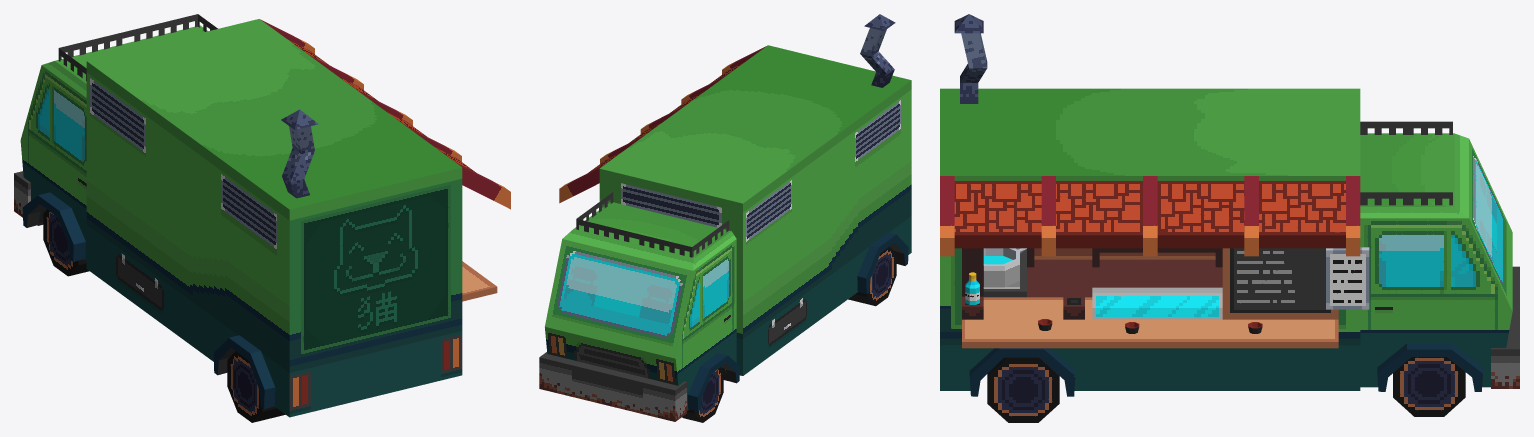
Rendered from green_foodtruck.glb.
The picture shows the model from 3 angles, left to right: view 1: azimuth 30°, elevation 25°; view 2: azimuth 150°, elevation 25°; view 3: azimuth 270°, elevation 25°; orthographic projection. The views are drawn at different scales.
Parts seen in each view (by area): view 1: cube_19, cube_15, cube_12, cube_8, cube_7, cube_10, cylinder_26, cube_22, cylinder_24, cylinder_27, cube_20, cylinder_23 (+4 smaller); view 2: cube_7, cube_19, cube_15, cube_8, cube_9, cube_11, cube_22, cylinder_26, cylinder_27, cylinder_24, cube_20, cylinder_23 (+2 smaller); view 3: cube_19, cube_7, cube_0, cube_8, cube_127, cube_128, cube_10, cube_129, cylinder_25, cylinder_16, cube_137, cube_22 (+13 smaller).
Boxes of the visible parts, <box> form: cube_19: <box>86,19,462,220</box>; cube_15: <box>86,72,306,366</box>; cube_12: <box>306,183,445,362</box>; cube_8: <box>86,218,462,417</box>; cube_7: <box>20,25,207,261</box>; cube_10: <box>445,178,462,328</box>; cylinder_26: <box>227,351,285,422</box>; cube_22: <box>58,14,217,80</box>; cylinder_24: <box>22,192,85,261</box>; cylinder_27: <box>213,335,275,408</box>; cube_20: <box>282,126,314,198</box>; cylinder_23: <box>43,209,89,276</box>; cube_7: <box>545,202,736,410</box>; cube_19: <box>599,45,911,212</box>; cube_15: <box>729,89,911,333</box>; cube_8: <box>736,211,911,375</box>; cube_9: <box>539,352,686,421</box>; cube_11: <box>613,181,729,229</box>; cube_22: <box>576,192,729,257</box>; cylinder_26: <box>848,246,896,306</box>; cylinder_27: <box>857,232,908,294</box>; cylinder_24: <box>687,353,739,411</box>; cube_20: <box>860,28,894,87</box>; cylinder_23: <box>682,367,723,422</box>; cube_19: <box>940,88,1360,180</box>; cube_7: <box>1360,133,1512,387</box>; cube_0: <box>954,181,1345,248</box>; cube_8: <box>940,259,1360,390</box>; cube_127: <box>962,319,1338,348</box>; cube_128: <box>1222,248,1338,319</box>; cube_10: <box>940,248,1360,338</box>; cube_129: <box>1092,287,1222,319</box>; cylinder_25: <box>987,357,1059,422</box>; cylinder_16: <box>1393,357,1465,416</box>; cube_137: <box>1326,247,1369,309</box>; cube_22: <box>1360,121,1452,205</box>.
Size of the model in its own units: 2.39 by 3.16 by 5.
4 materials, 4 textured.
